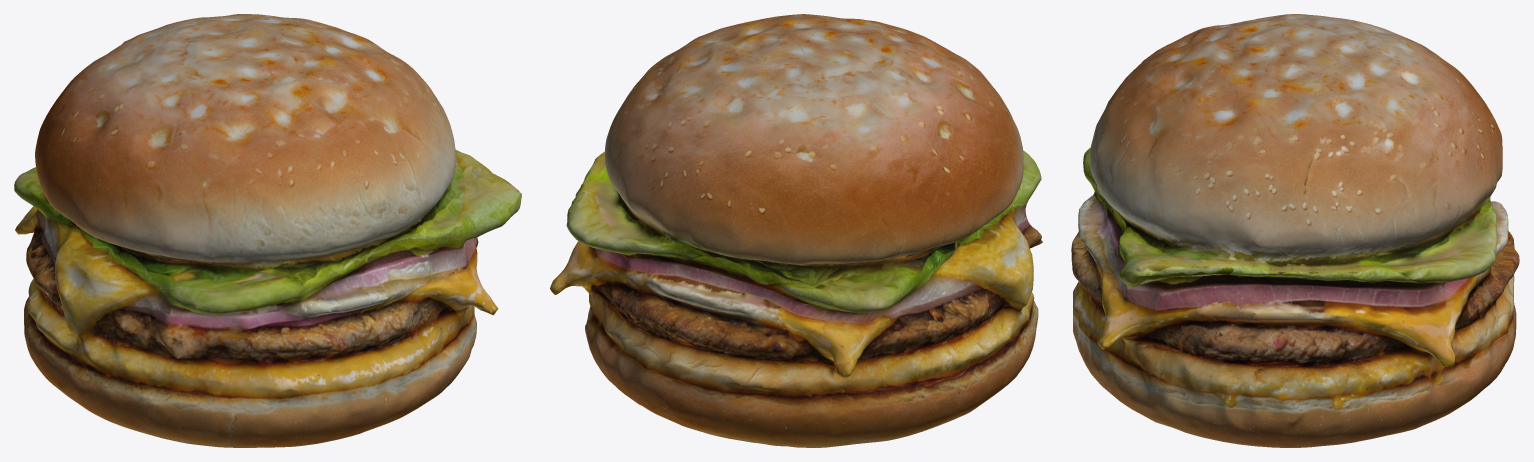
Rendered from carbonara.glb.
The picture shows the model from 3 angles, left to right: view 1: azimuth 30°, elevation 25°; view 2: azimuth 150°, elevation 25°; view 3: azimuth 270°, elevation 25°; orthographic projection.
Visible parts, largest first — view 1: Mesh_0_Material_0_0; view 2: Mesh_0_Material_0_0; view 3: Mesh_0_Material_0_0.
Part boxes in pixels (<box>): Mesh_0_Material_0_0: <box>14,14,521,447</box>; Mesh_0_Material_0_0: <box>550,14,1042,447</box>; Mesh_0_Material_0_0: <box>1071,14,1519,447</box>.
Size of the model in its own units: 1.2 by 1.01 by 1.18.
Materials: 1 (1 with a texture image).
